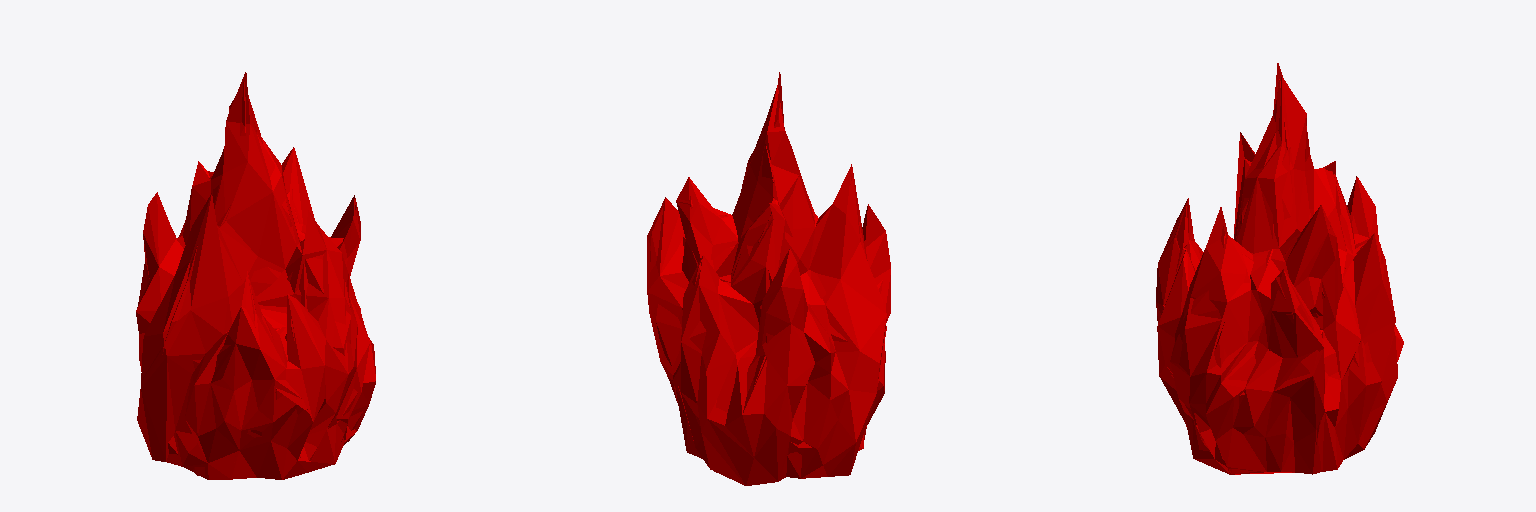
The model's file is mark-fire.obj.
3 renders of one model, left to right at view 1: azimuth 30°, elevation 25°; view 2: azimuth 150°, elevation 25°; view 3: azimuth 270°, elevation 25°, orthographic.
Visible parts, largest first — view 1: mark-fire; view 2: mark-fire; view 3: mark-fire.
Boxes of the visible parts, box(x1,y1,x2,y2) form: mark-fire: box(136, 72, 375, 479); mark-fire: box(647, 72, 890, 485); mark-fire: box(1156, 63, 1403, 474).
Bounding box in the file's own units: 0.9788 × 1.57 × 0.9322.